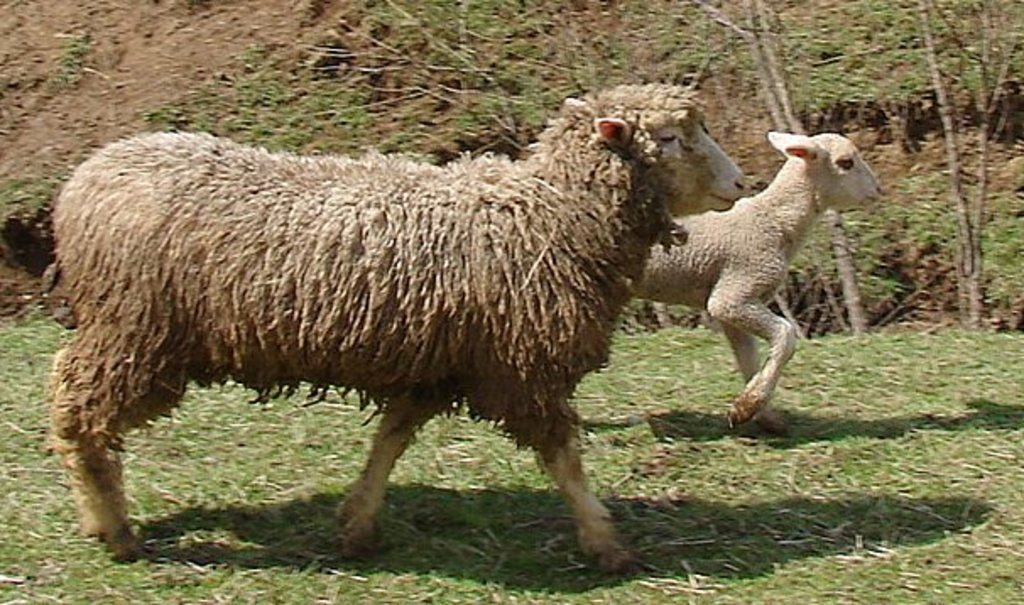sheep: (47, 89, 743, 572)
